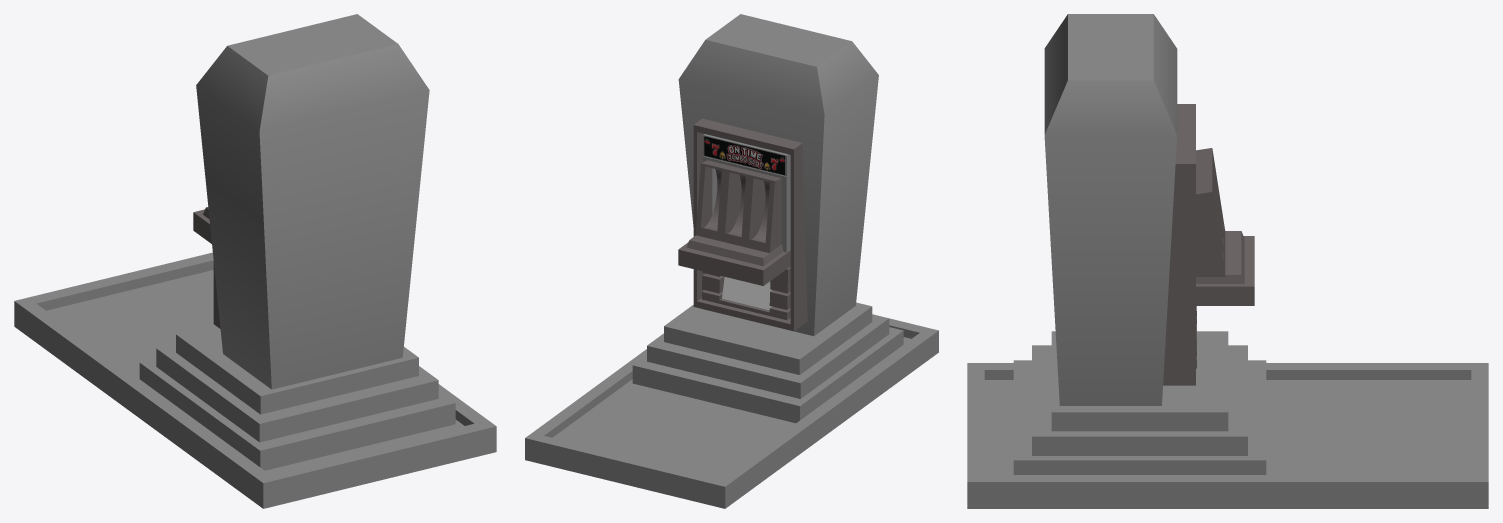
File: main.gltf
The picture shows the model from 3 angles, left to right: view 1: azimuth 30°, elevation 25°; view 2: azimuth 150°, elevation 25°; view 3: azimuth 270°, elevation 25°; orthographic projection. The views are drawn at different scales.
Visible parts, largest first — view 1: Cube, Polygon, Cube.5, Cube.4, Cube.3; view 2: Cube (×4), Polygon (×2), Boolean (×3), Cube.3 (×2), Cube.5, Cube.4, Cube.2; view 3: Cube (×2), Polygon, Boolean (×2), Cube.3 (×2), Cube.4, Cube.5.
Boxes of the visible parts, x1,y1,x2,y2 form: Cube: (196, 14, 429, 389); Polygon: (14, 252, 496, 508); Cube.5: (139, 358, 455, 470); Cube.4: (156, 343, 438, 442); Cube.3: (176, 325, 418, 414); Cube (×4): (678, 14, 878, 336); Polygon (×2): (525, 266, 938, 508); Boolean (×3): (693, 118, 807, 331); Cube.3 (×2): (664, 242, 872, 374); Cube.5: (632, 327, 903, 423); Cube.4: (647, 314, 889, 398); Cube.2: (703, 134, 790, 176); Cube (×2): (1044, 14, 1244, 405); Polygon: (967, 363, 1488, 508); Boolean (×2): (1163, 104, 1225, 385); Cube.3 (×2): (1051, 236, 1254, 431); Cube.4: (1032, 345, 1247, 455); Cube.5: (1013, 360, 1266, 474).
Bounding box in the file's own units: 4.67 × 7.37 × 8.64.
4 materials, 1 textured.
